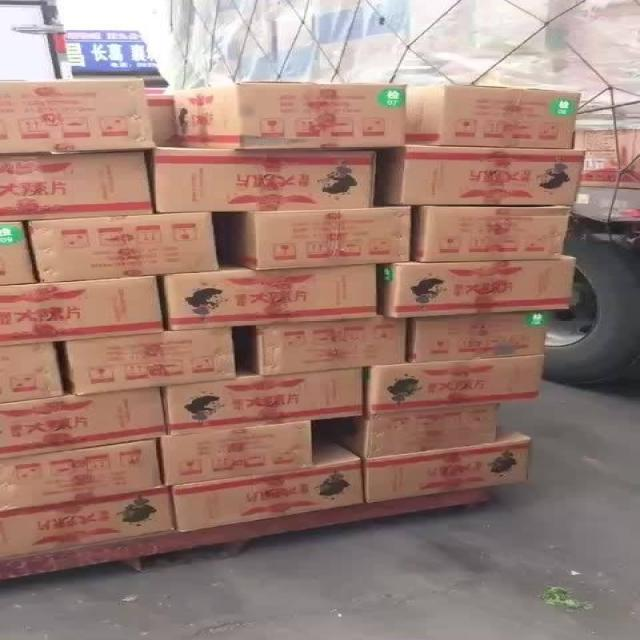box: (171, 429, 366, 533), (145, 146, 380, 213), (172, 83, 405, 150), (155, 263, 378, 331), (362, 417, 533, 505), (27, 212, 218, 283), (160, 368, 365, 434), (1, 486, 179, 559), (377, 253, 579, 317), (374, 146, 585, 207), (213, 206, 411, 270), (53, 327, 237, 395), (0, 436, 162, 511), (0, 387, 167, 459), (0, 80, 154, 156), (0, 147, 157, 221), (0, 275, 165, 345), (364, 354, 546, 417), (405, 85, 579, 149), (312, 404, 500, 460), (232, 317, 407, 377), (157, 421, 315, 487), (410, 206, 572, 262), (406, 310, 547, 364), (0, 342, 63, 404), (0, 221, 40, 286), (145, 96, 183, 148)
